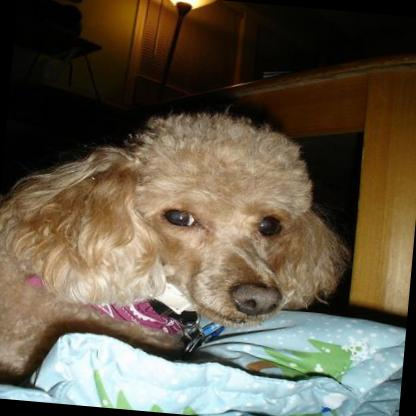toy_poodle: (0, 91, 353, 400)
